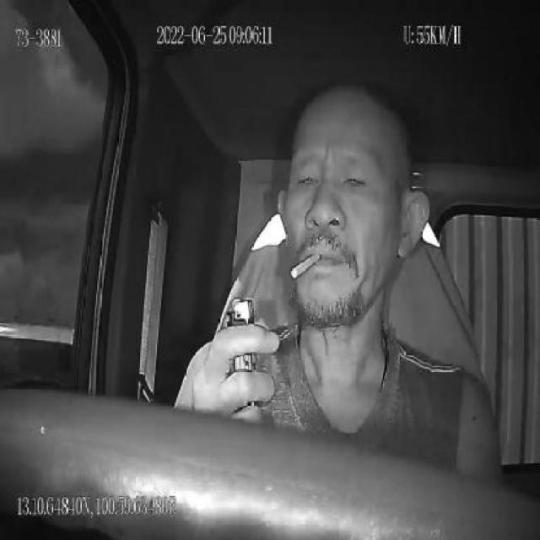smoking: (290, 252, 320, 280)
